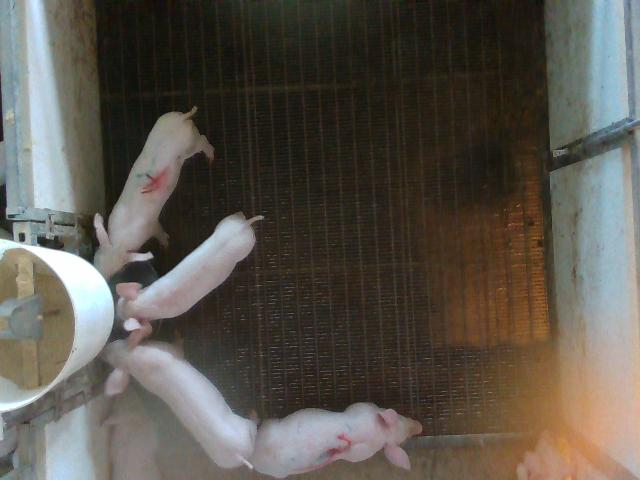pig-3: (250, 402, 422, 477)
pig-4: (95, 106, 214, 279)
